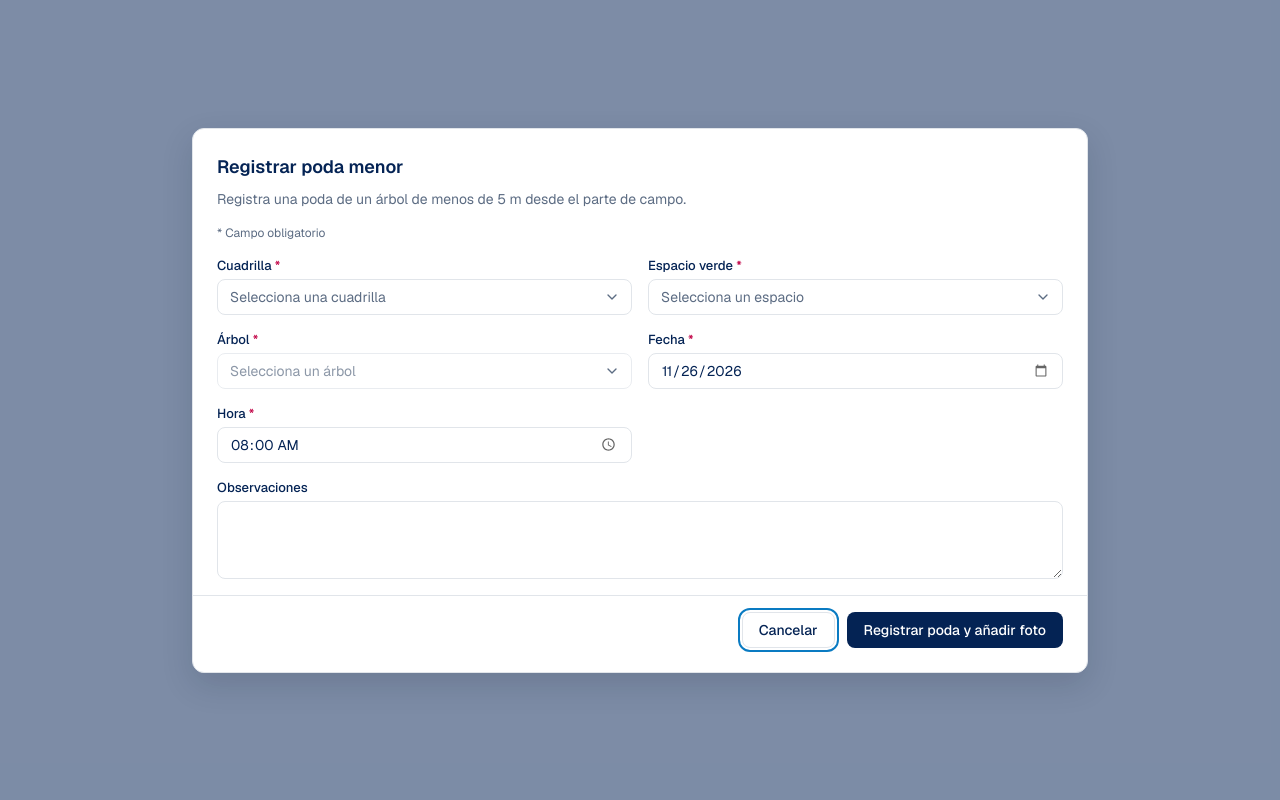
Test: DialogoPodaMenor › impide la poda de 5 m o más y ofrece reportar una incidencia
Later steps or results of the test are not shown.
Select "Cuadrilla 1" in the dropdown labelled "Cuadrilla *" at (424, 296), box [217,278,632,314]
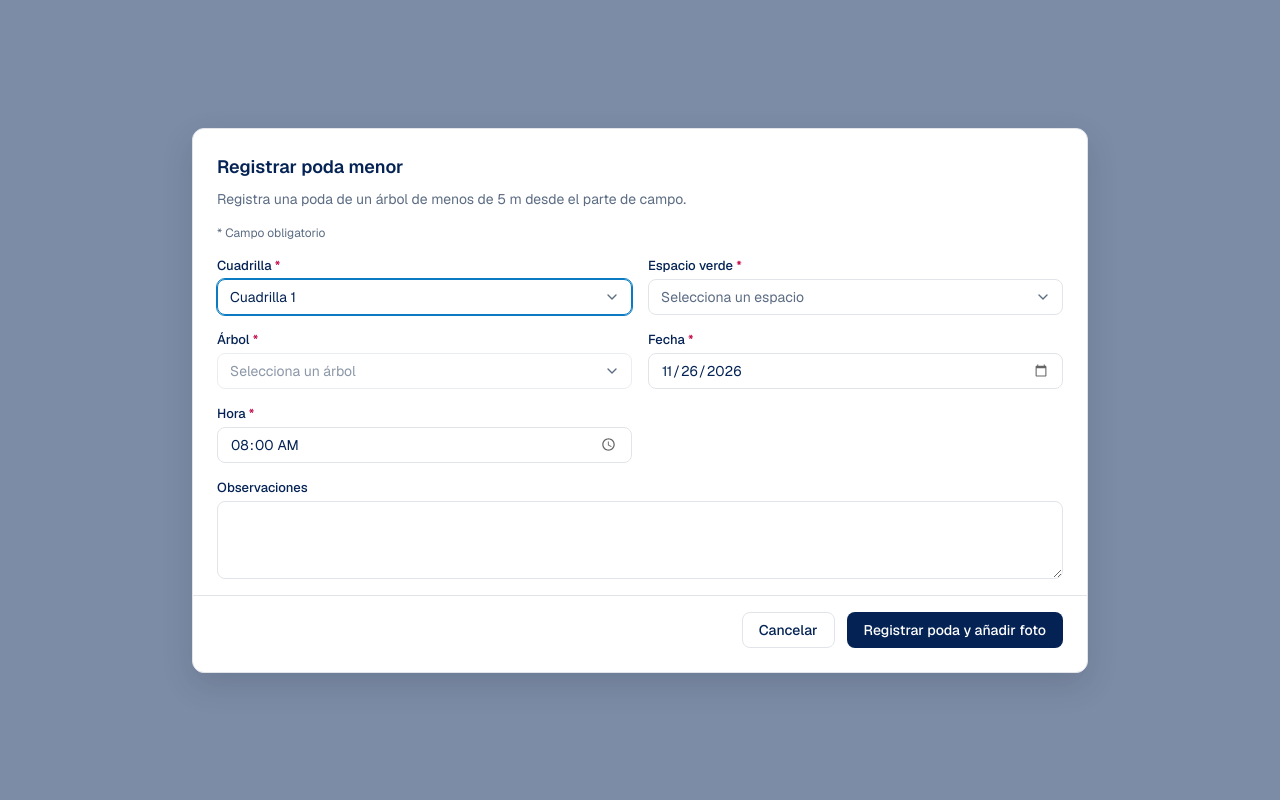
Select "Jardín A" in the dropdown labelled "Espacio verde *" at (856, 296), box [648,278,1063,314]
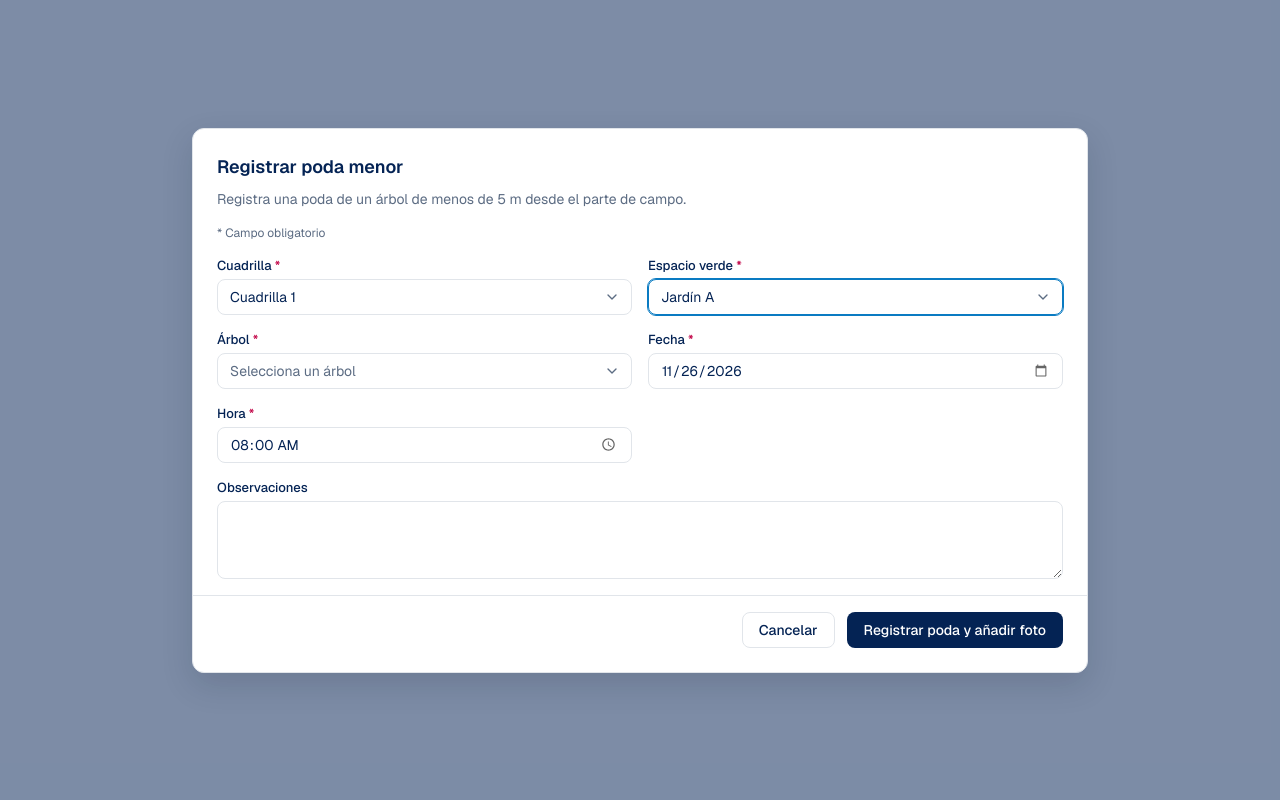
Select "EJ-00009 · 5 m" in the dropdown labelled "Árbol *" at (424, 370), box [217,352,632,388]
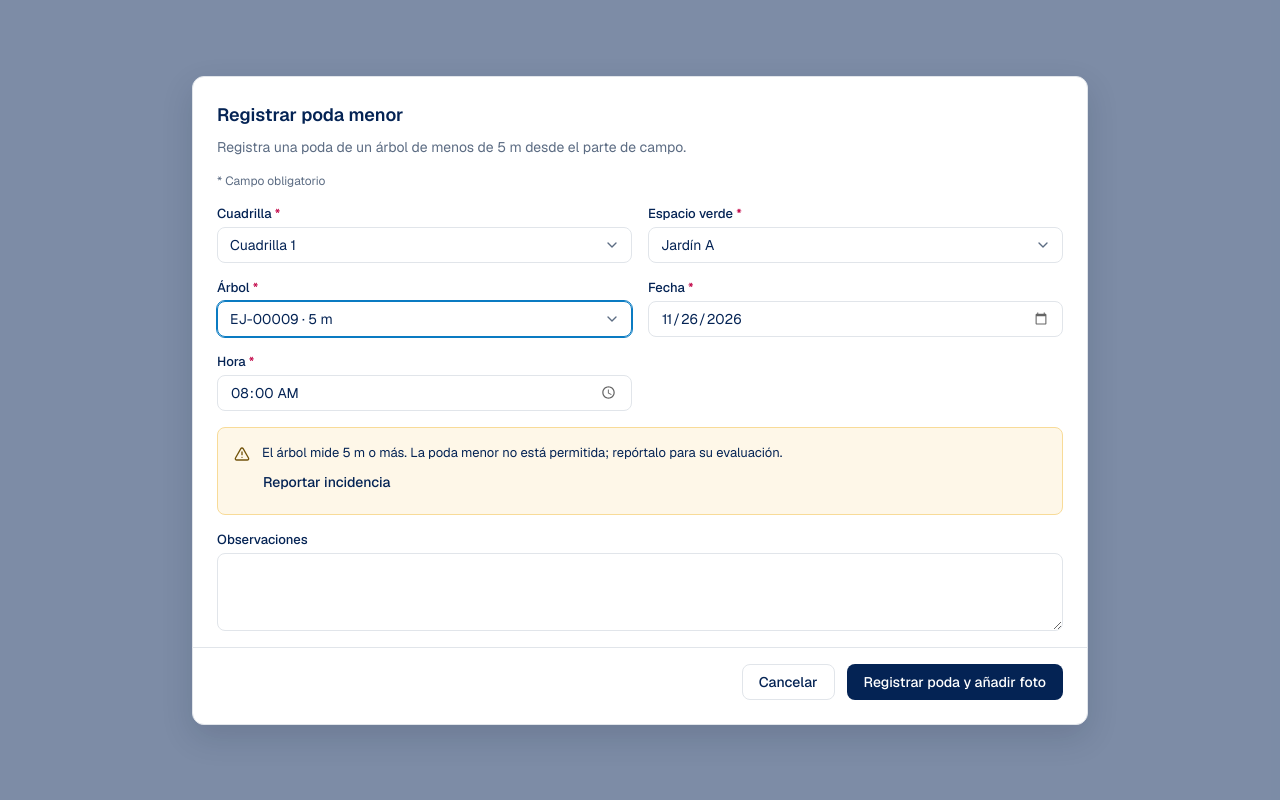
Expected: the text "La poda menor no está permitida" is shown, [262,444,782,460]
Expected: the button "Reportar incidencia" is shown, [250,466,404,498]
